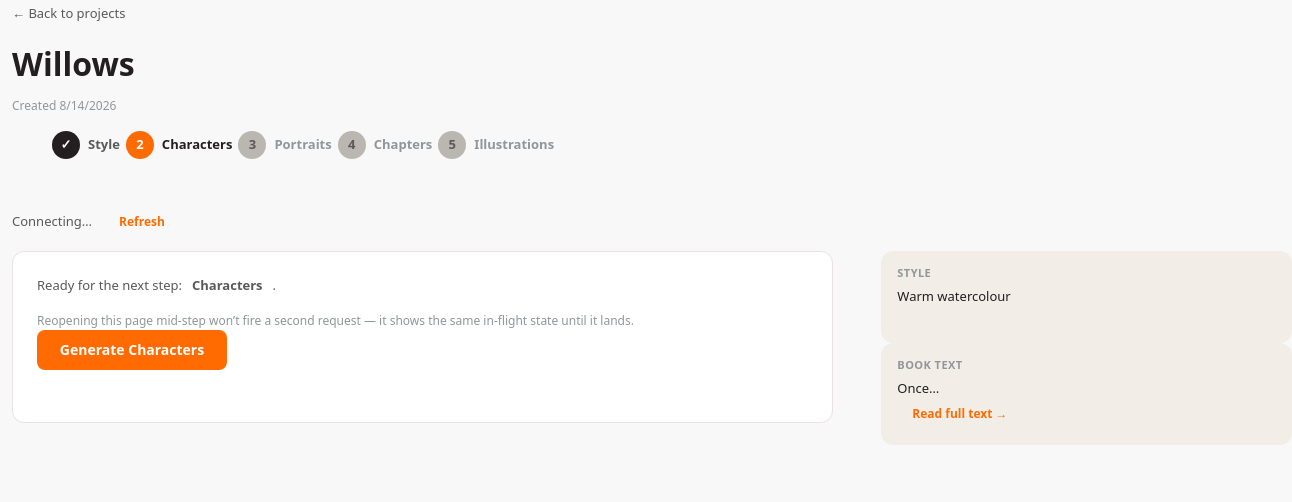
Test: a stale background refetch cannot overwrite a newer accepted run snapshot
The width and height of the screenshot is (1292, 502).
Click the button "Generate Characters" at (132, 350), box [37,330,227,370]
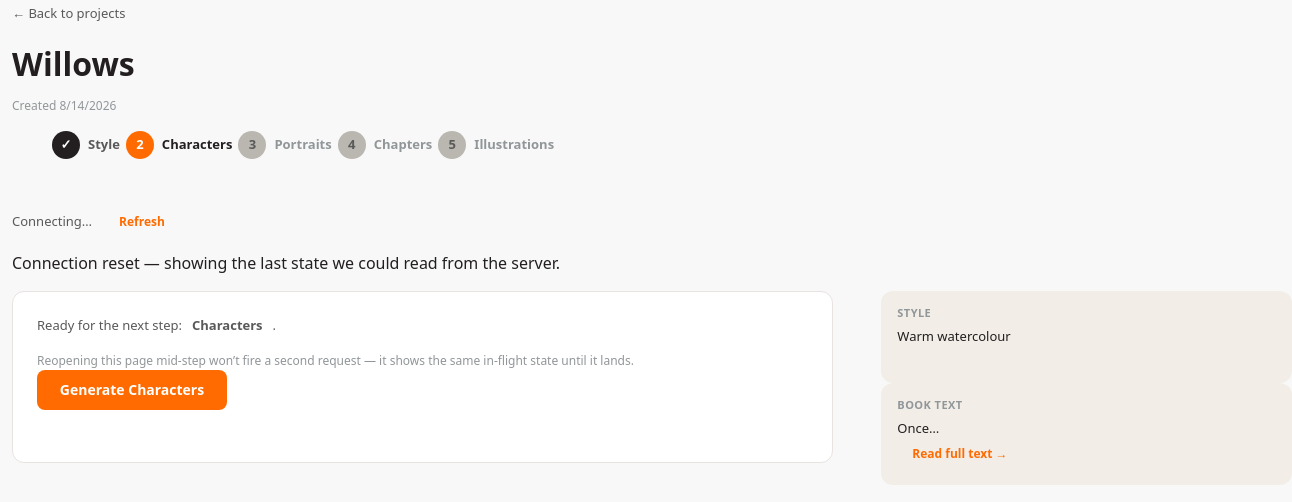
Now the message "Connection reset — showing the last state we could read from the server." is shown, box [12,252,560,274]
Click the button "Generate Characters" at (132, 390), box [37,370,227,410]
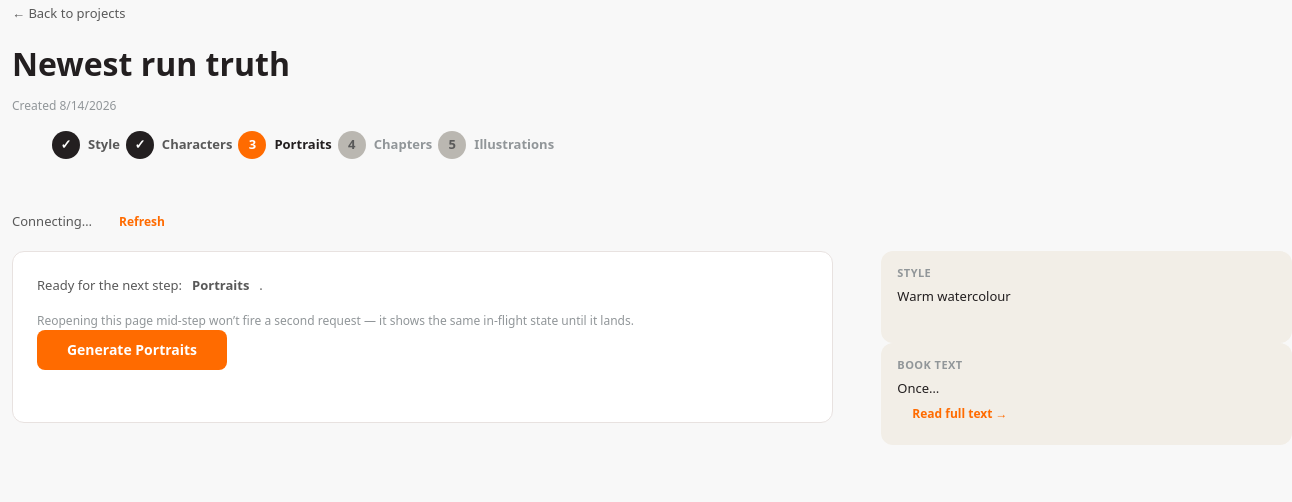
Now the heading "Newest run truth" is shown, box [12,42,290,85]
